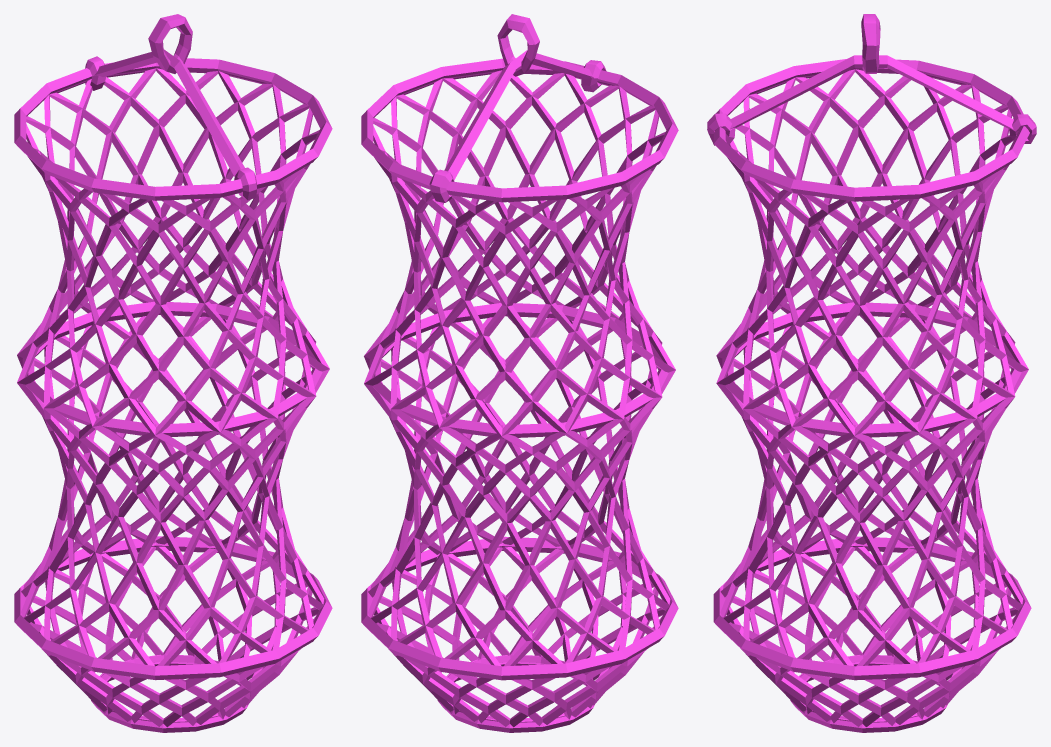
The model's file is SM_FishNett_Fantasy.fbx.
3 views of the same model, side by side, from view 1: azimuth 30°, elevation 25°; view 2: azimuth 150°, elevation 25°; view 3: azimuth 270°, elevation 25° (orthographic).
Parts seen in each view (by area): view 1: SM_FishNett_Fantasy; view 2: SM_FishNett_Fantasy; view 3: SM_FishNett_Fantasy.
Part boxes in pixels (x1=…): SM_FishNett_Fantasy: x1=14, y1=14, x2=332, y2=732; SM_FishNett_Fantasy: x1=361, y1=14, x2=678, y2=732; SM_FishNett_Fantasy: x1=707, y1=14, x2=1036, y2=732.
Bounding box in the file's own units: 0.671 × 1.58 × 0.6924.
